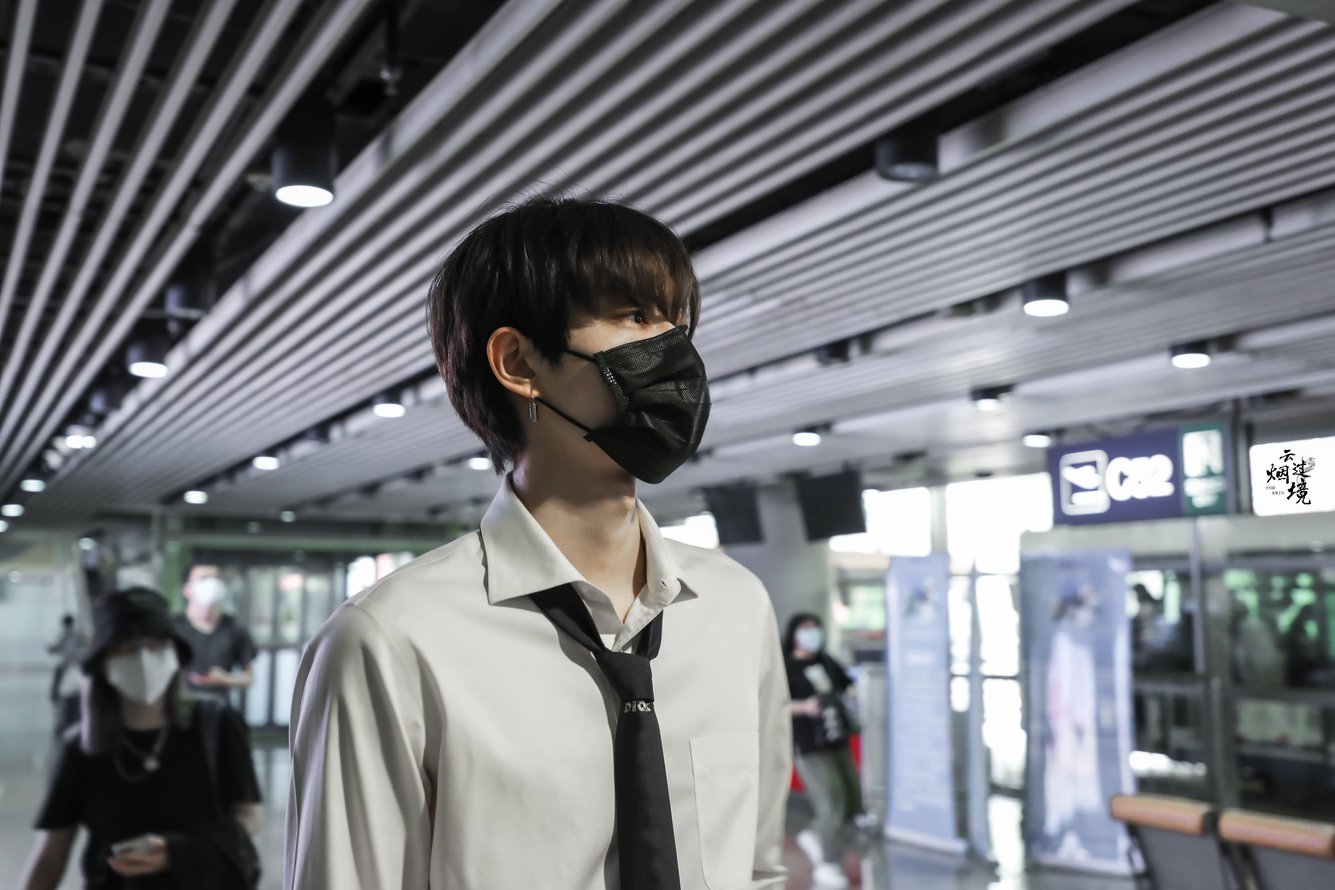OK: (576, 291, 712, 485), (104, 616, 175, 701), (188, 567, 224, 610), (792, 616, 825, 649)
